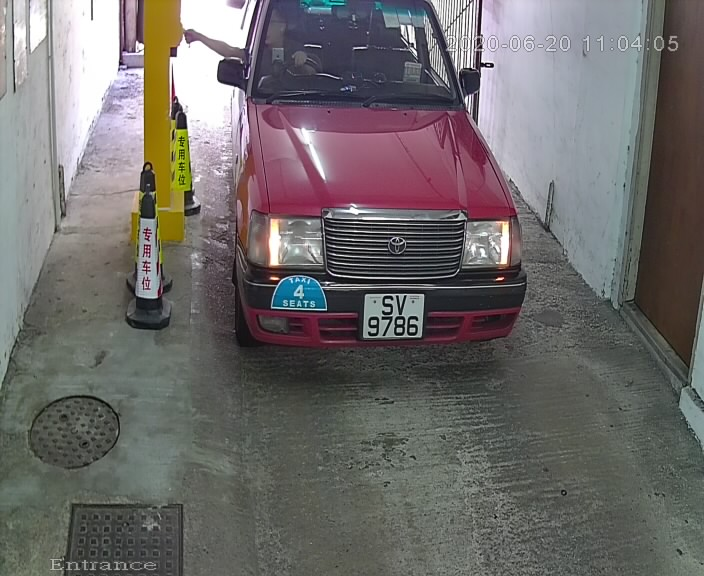taxi: (210, 2, 540, 370)
taxi_mark: (270, 269, 331, 319)
